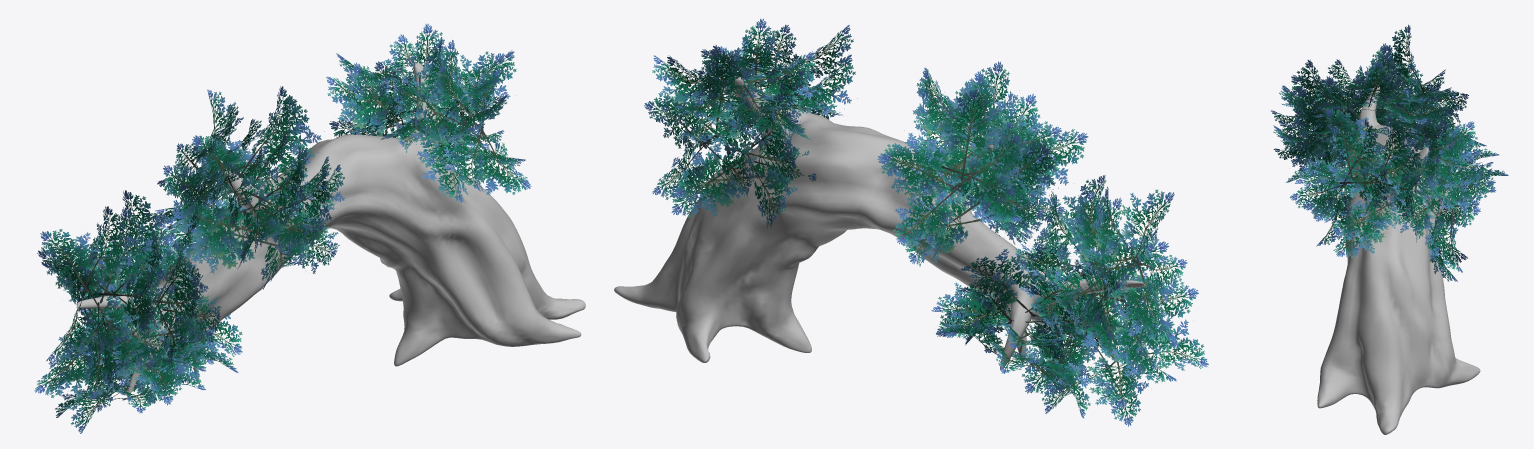
Rendered from Env_TreePath.fbx.
The picture shows the model from 3 angles, left to right: view 1: azimuth 30°, elevation 25°; view 2: azimuth 150°, elevation 25°; view 3: azimuth 270°, elevation 25°; orthographic projection. The views are drawn at different scales.
Visible parts, largest first — view 1: Env_TreePath; view 2: Env_TreePath; view 3: Env_TreePath.
Part boxes in pixels (x1,y1,x2,y2): Env_TreePath: (34,23,585,433); Env_TreePath: (614,18,1208,426); Env_TreePath: (1271,24,1508,434).
Bounding box in the file's own units: 958 × 531 × 457.
